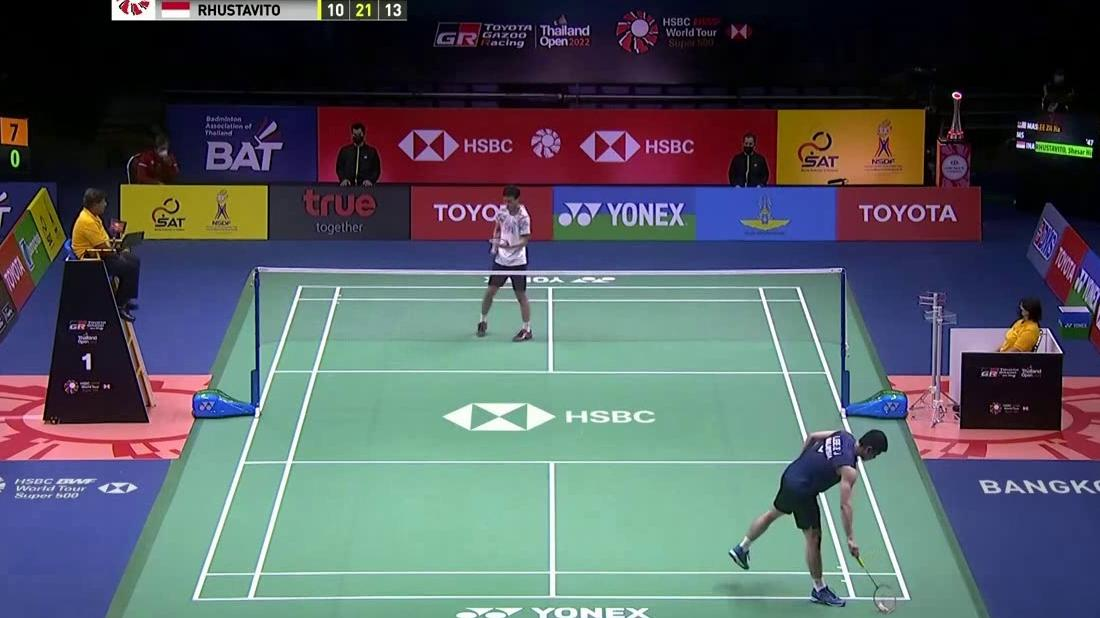racket: (852, 551, 898, 616), (487, 235, 512, 250)
shuttle: (875, 602, 889, 614)
